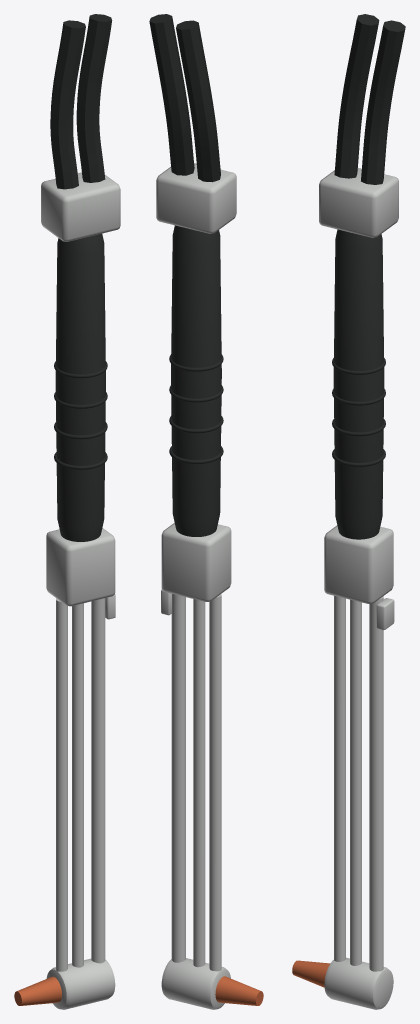
Rendered from oxy_fuel_cutting_torch_body.glb.
3 views of the same model, side by side, from view 1: azimuth 30°, elevation 25°; view 2: azimuth 150°, elevation 25°; view 3: azimuth 330°, elevation 25° (orthographic).
Visible parts, largest first — view 1: oxy_fuel_cutting_torch_body; view 2: oxy_fuel_cutting_torch_body; view 3: oxy_fuel_cutting_torch_body.
Boxes of the visible parts, bbox=[...] form: oxy_fuel_cutting_torch_body: bbox=[14, 14, 120, 1009]; oxy_fuel_cutting_torch_body: bbox=[149, 14, 263, 1009]; oxy_fuel_cutting_torch_body: bbox=[292, 14, 405, 1009].
Bounding box in the file's own units: 0.0689 × 0.6391 × 0.032.
